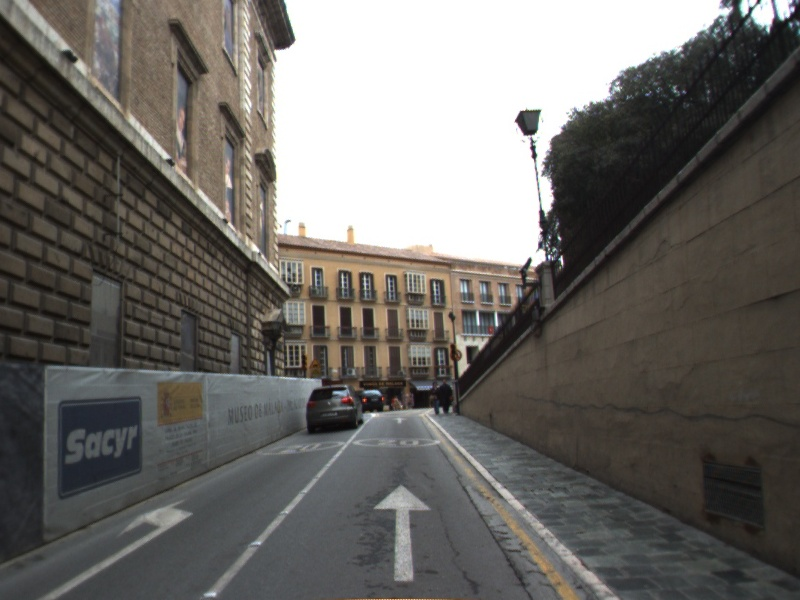LEFT: (39, 493, 197, 600)
STRAIGHT: (369, 482, 435, 584), (391, 415, 409, 425)
